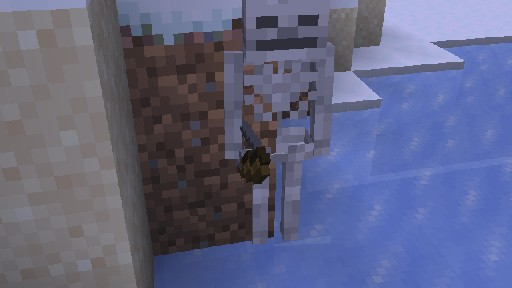skeleton: (219, 0, 335, 244)
